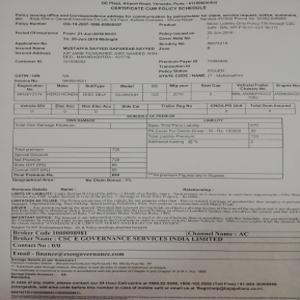table: (14, 116, 284, 180), (13, 82, 300, 102), (13, 101, 295, 116)
text: (11, 14, 300, 82), (9, 187, 300, 233)
